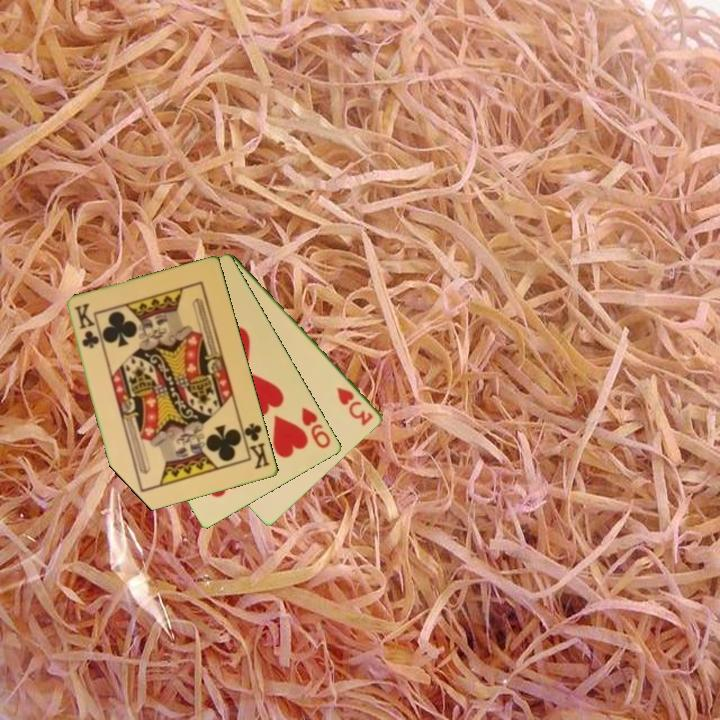3h: (334, 383, 376, 429)
9h: (298, 403, 334, 452)
Kc: (238, 420, 273, 472), (71, 300, 102, 352)
